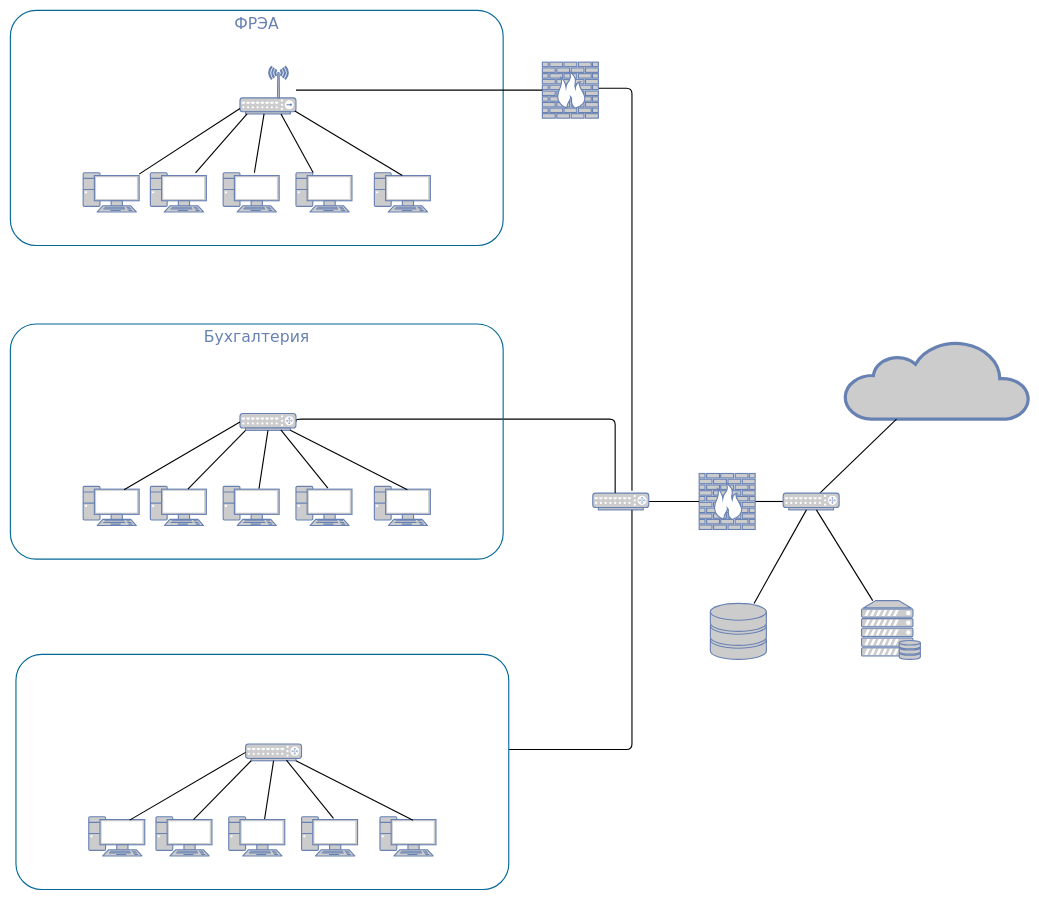
Some shapes in this 1039 by 899 pixel diagram are drawn without their labels. Here are the shapes that lost their labels. From the top down, the box of each, then its label:
(844, 340, 1030, 419): Internet
(15, 654, 509, 890): ПТО
